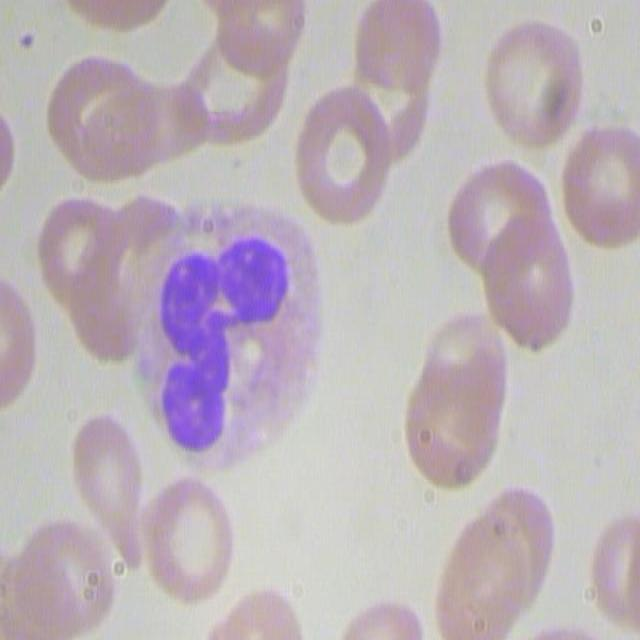RBC: (49, 184, 165, 366), (429, 478, 555, 638), (400, 311, 508, 491), (479, 187, 583, 354), (181, 0, 292, 156), (290, 76, 394, 234), (47, 48, 161, 190), (0, 500, 113, 638), (476, 11, 584, 152), (131, 468, 241, 606), (347, 1, 447, 137), (122, 0, 227, 103), (558, 124, 640, 251), (444, 156, 536, 268), (587, 512, 640, 629), (0, 268, 32, 415), (57, 0, 179, 32)
WBC: (152, 191, 326, 463)
